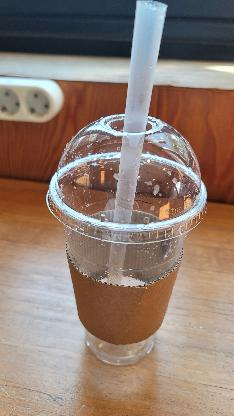Plastic Cup: (44, 113, 206, 366), (45, 112, 207, 242)
